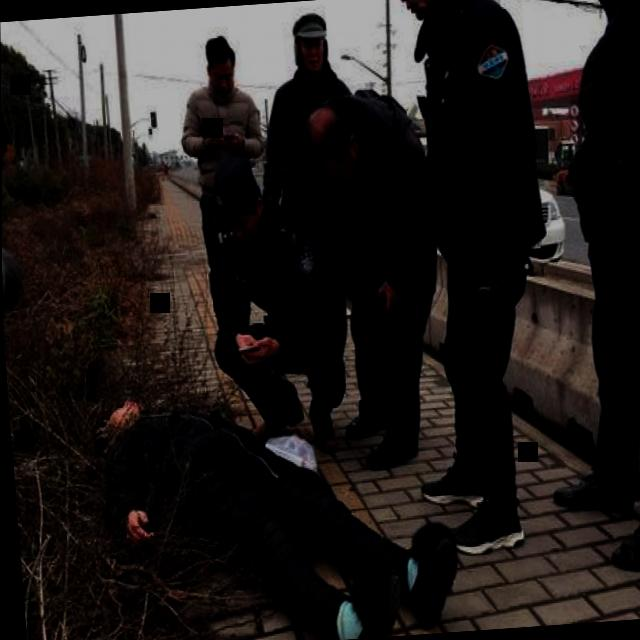Fall-Detected: (99, 362, 467, 640)
